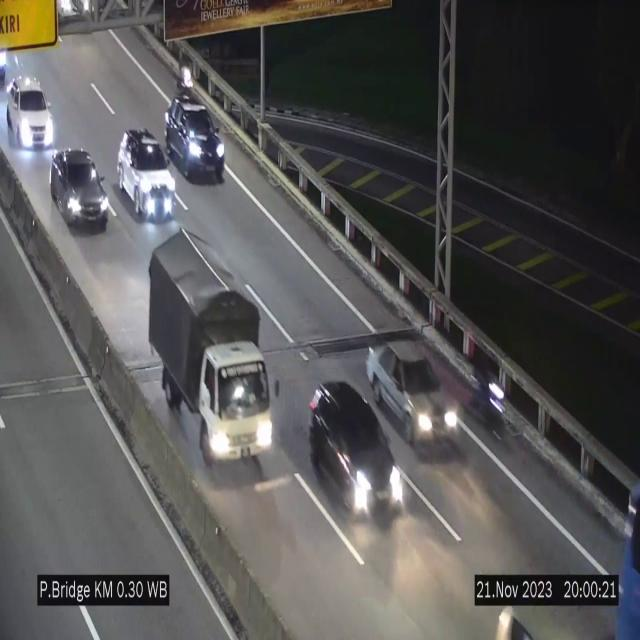Car: (309, 380, 404, 522), (370, 335, 457, 444), (165, 96, 225, 186), (117, 129, 175, 221), (50, 148, 108, 230), (6, 78, 55, 150)
Motorcycle: (469, 350, 506, 436), (177, 47, 196, 106)
Truck: (147, 226, 285, 464)
